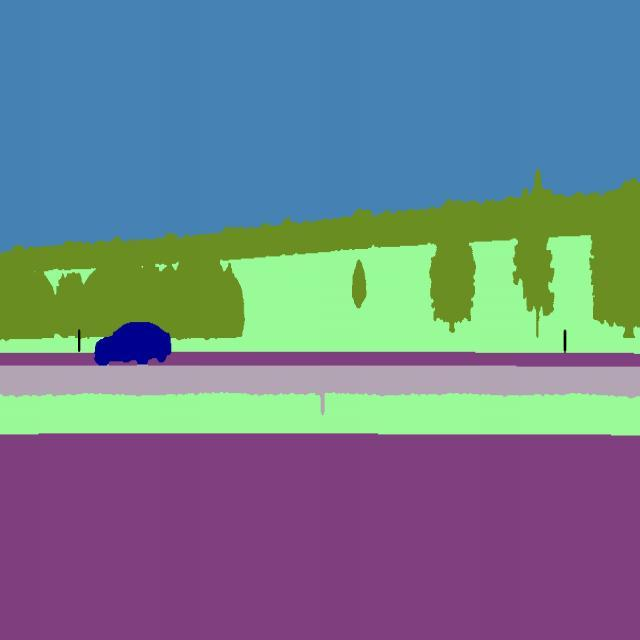safe: (94, 320, 172, 364)
